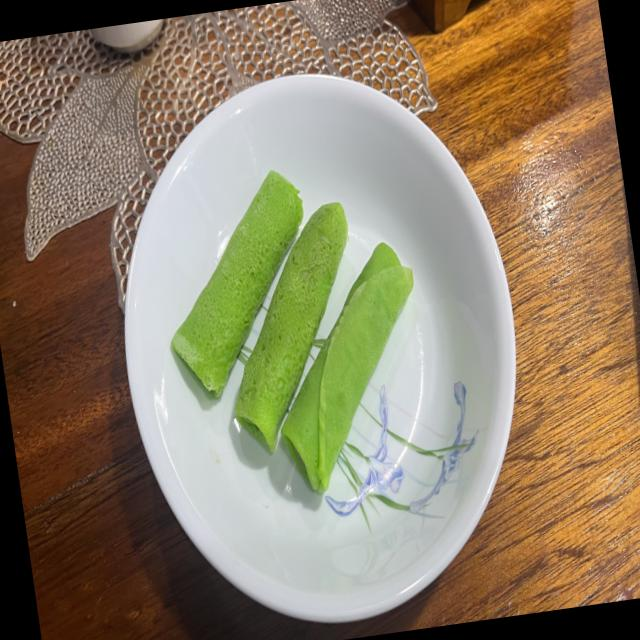Kuih-Ketayap: (282, 243, 414, 491), (172, 171, 304, 397), (235, 203, 348, 452)
